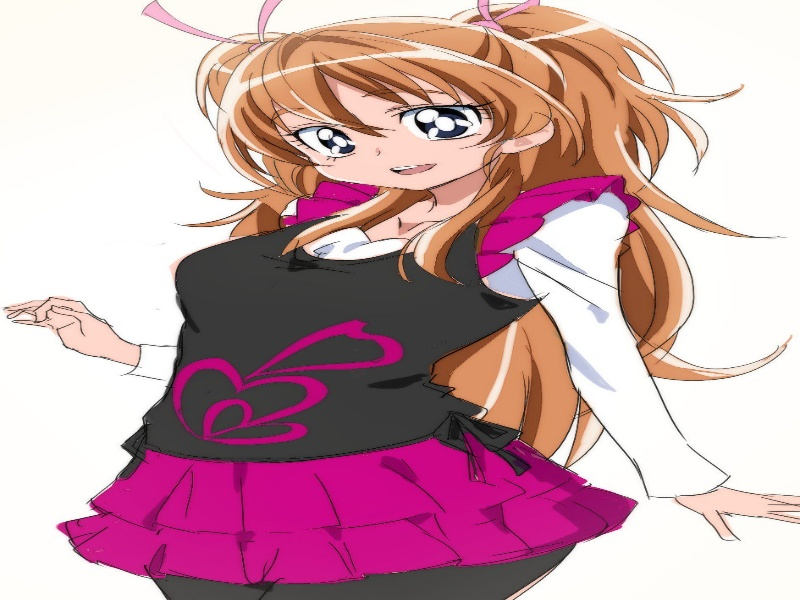dress: (74, 231, 655, 600)
person: (211, 17, 635, 204)
